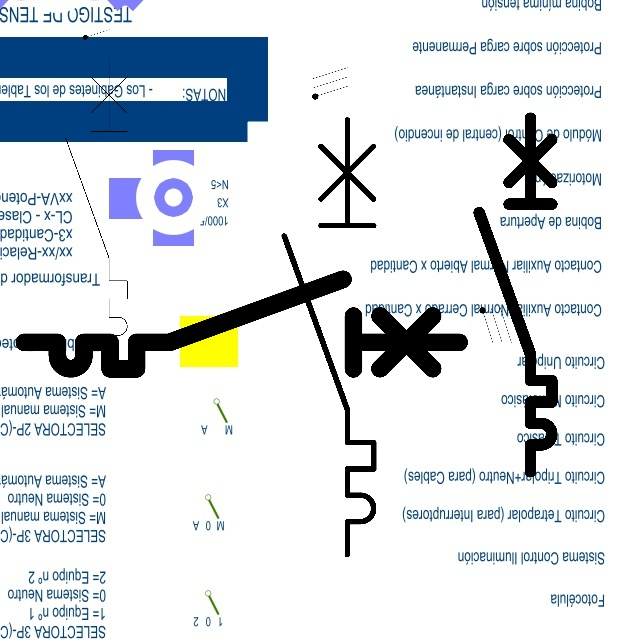interruptor_termomagnetico: (273, 108, 385, 566), (13, 268, 470, 380), (470, 109, 561, 481), (58, 50, 135, 365)
